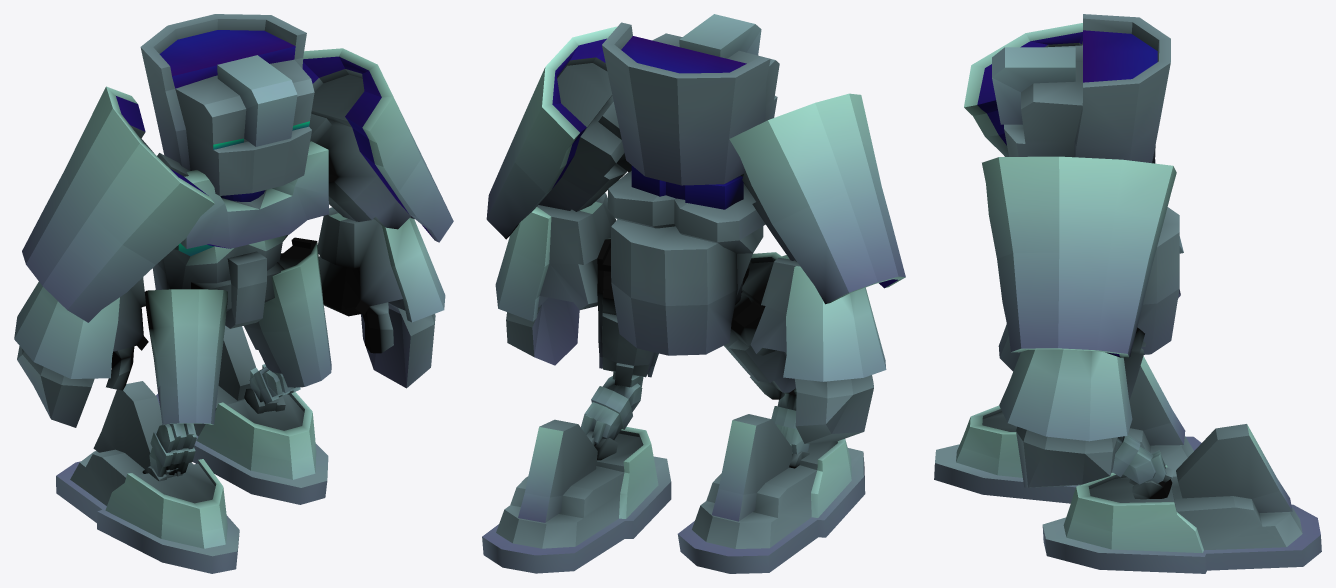
Rendered from mech-001.glb.
3 views of the same model, side by side, from view 1: azimuth 30°, elevation 25°; view 2: azimuth 150°, elevation 25°; view 3: azimuth 270°, elevation 25° (orthographic). The views are drawn at different scales.
Parts seen in each view (by area): view 1: Cube2_copy4; view 2: Cube2_copy4; view 3: Cube2_copy4.
Part boxes in pixels (x1,y1,x2,y2): Cube2_copy4: (14,14,453,573); Cube2_copy4: (482,14,905,573); Cube2_copy4: (934,14,1321,573).
Bounding box in the file's own units: 20.48 × 22.58 × 16.91.
Materials: 1 (1 with a texture image).
